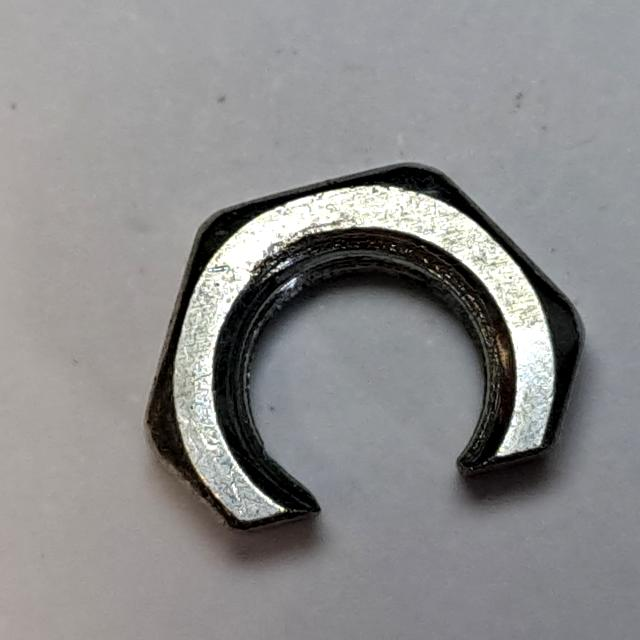Fracture: (130, 141, 598, 550)
